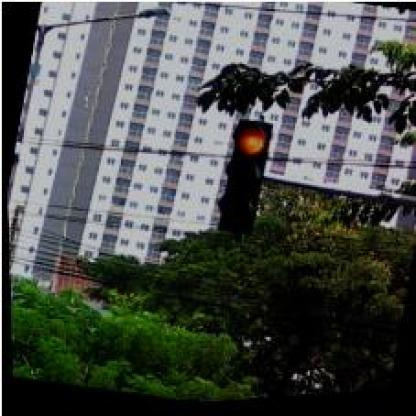red: (208, 117, 276, 242)
